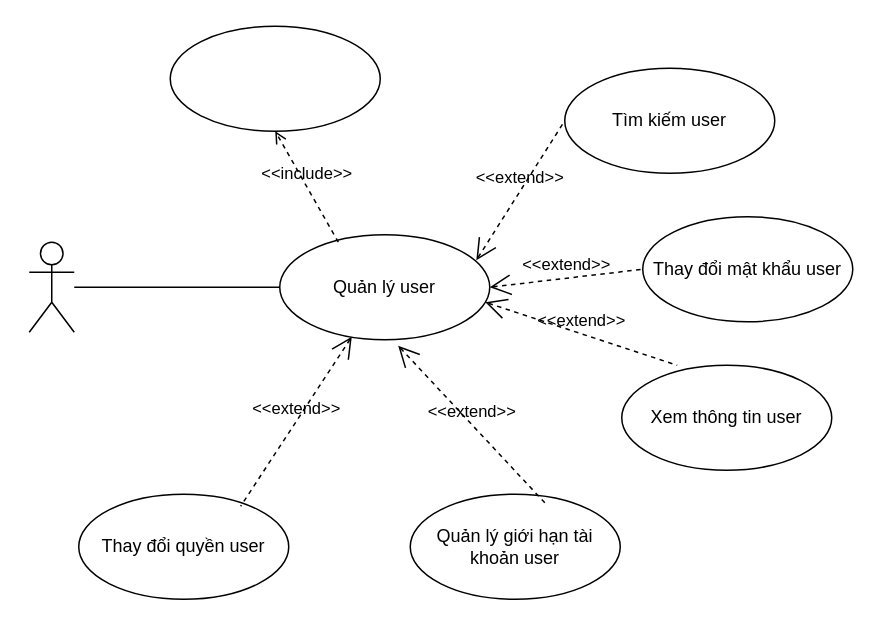
This 879x626 diagram has some shape labels left out. Here are the shapes that lost their labels. From the top down, the box of each, then its label:
(169, 25, 380, 131): Đăng nhập
(28, 241, 74, 332): Admin
